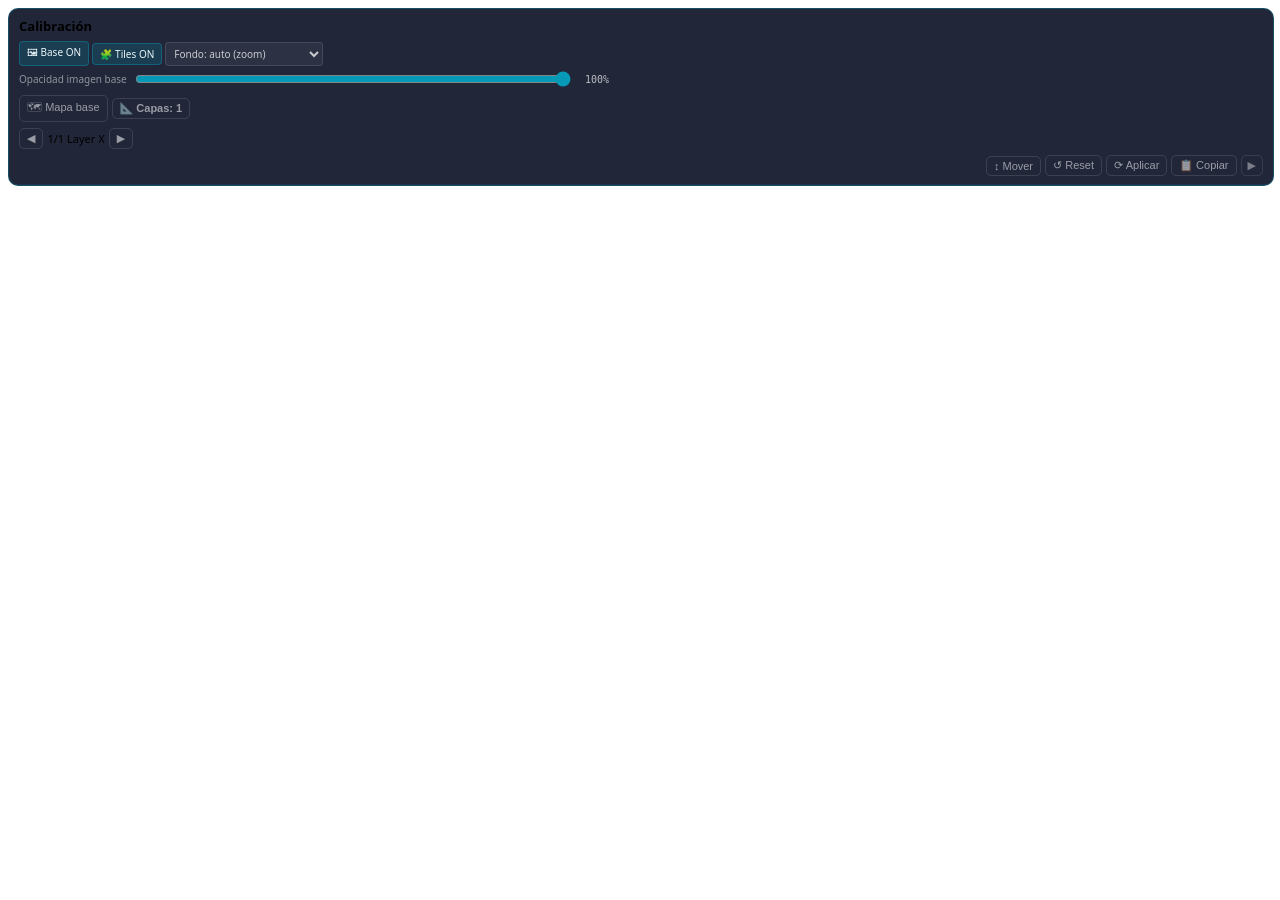
Test: CalibrationPanel multi-layer › shows viewport H/V sliders (Escala H/V) in ecosistemas, replacing the single Margen
expect the text "Escala H" is not shown: met
Click the 2nd button titled "Mostrar panel" at (1252, 166), box [1240,155,1263,176]
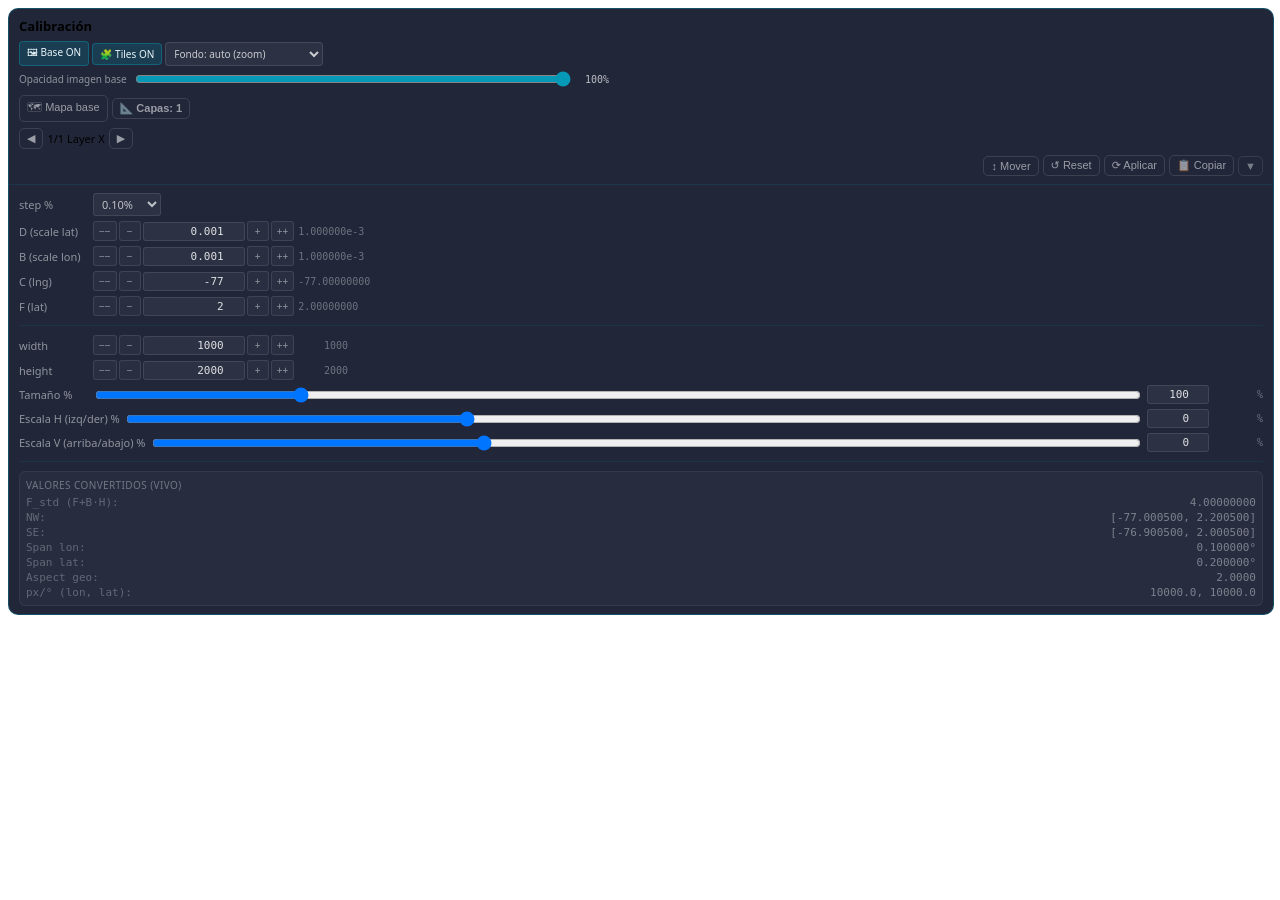
expect the text "Escala H (izq/der) %" is shown: met, box [19,411,120,426]
expect the text "Escala V (arriba/abajo) %" is shown: met, box [19,435,146,450]
